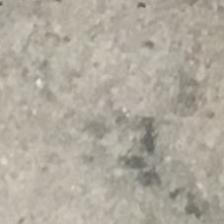Non_Crack: (25, 48, 203, 222)
